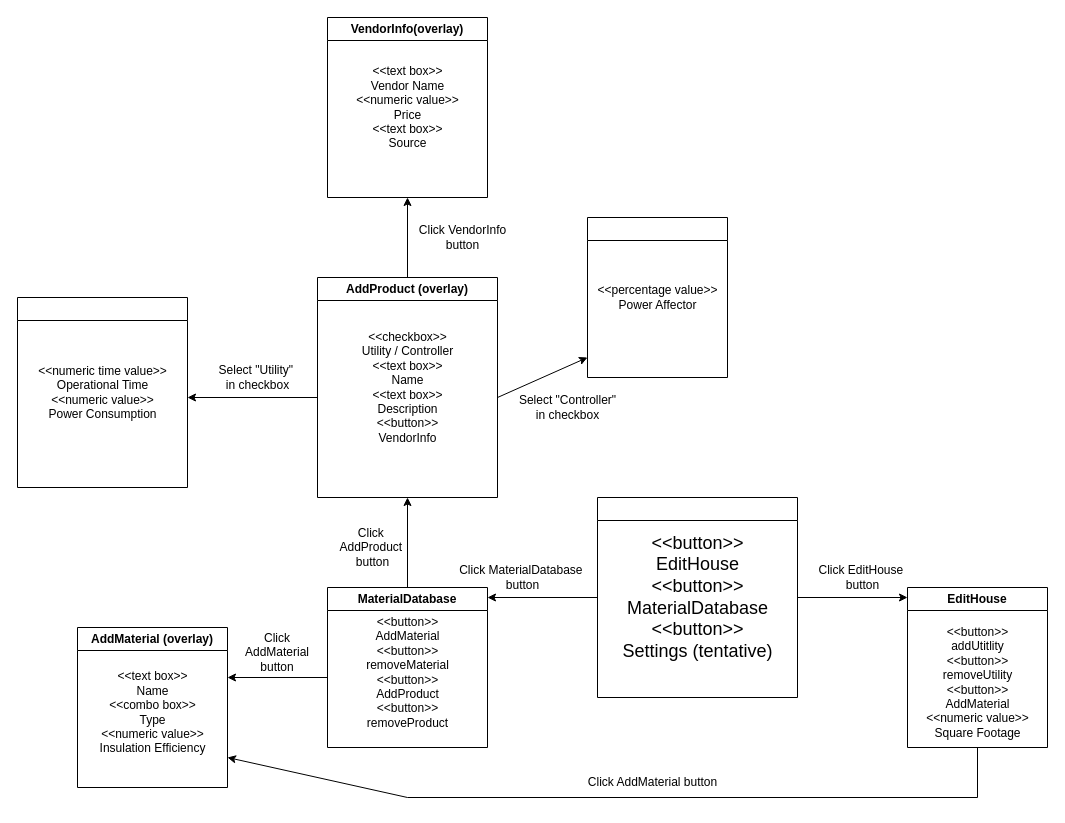
This 1065x823 diagram has some shape labels left out. Each missing label, with the box of its shape:
ControllerInfo (overlay): (586, 216, 728, 378)
Home Screen: (596, 496, 798, 698)
UtilityInfo (overlay): (16, 296, 188, 488)
